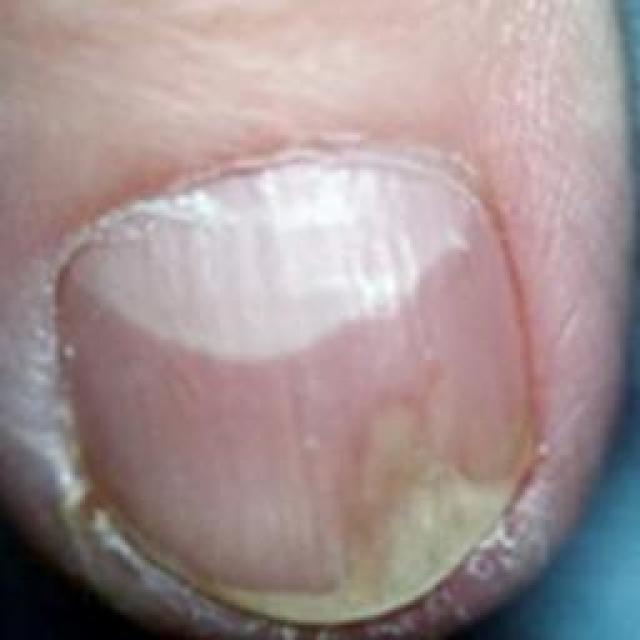Nail: (60, 154, 541, 624)
